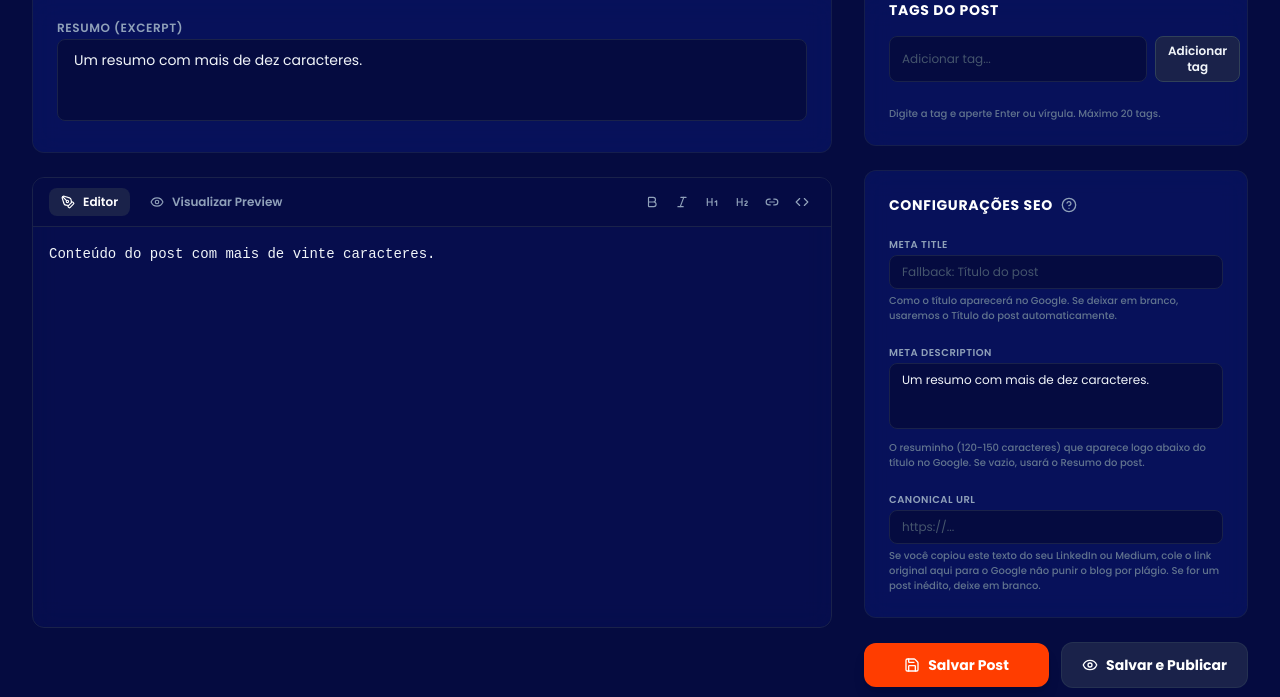
Scenario: Editar post: Salvar e Publicar › se publicar falha, avisa que salvou mas não publicou, e fica na tela
(page scrolled)
Click the button "Salvar e Publicar" at (1154, 665), box [1061,642,1248,688]
(page scrolled)
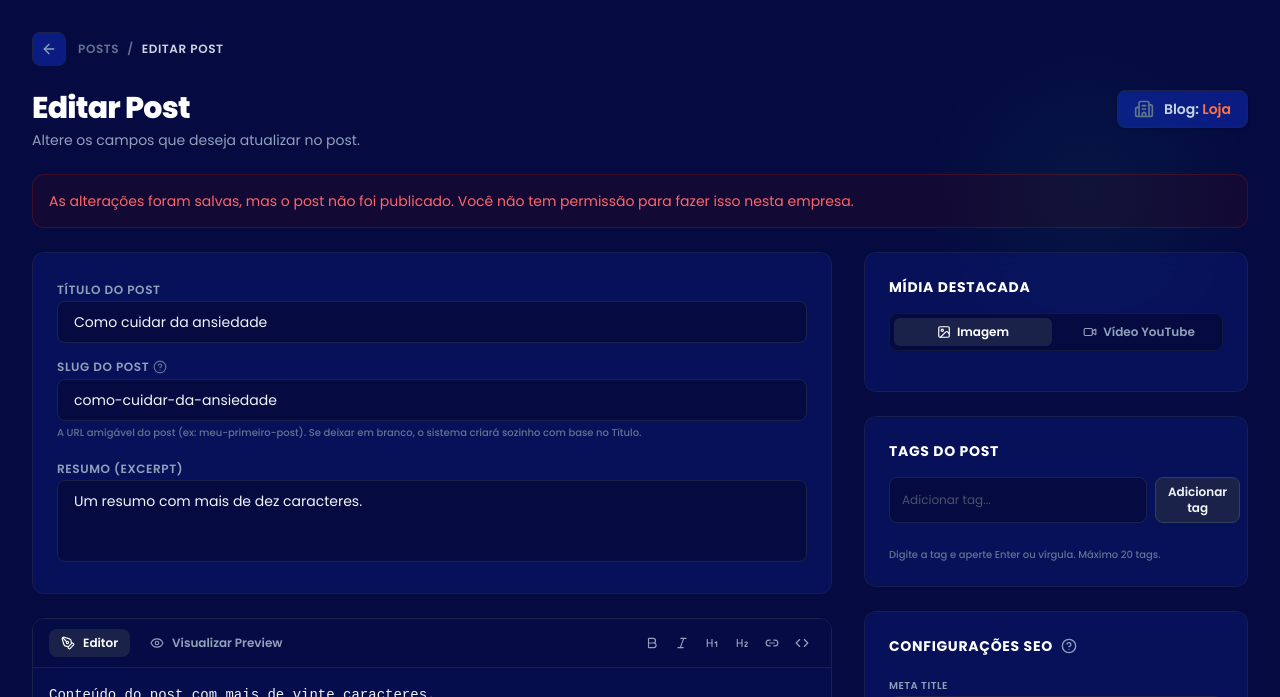
Expected: the text "Você não tem permissão para fazer isso nesta empresa." is shown, [49,191,854,211]
